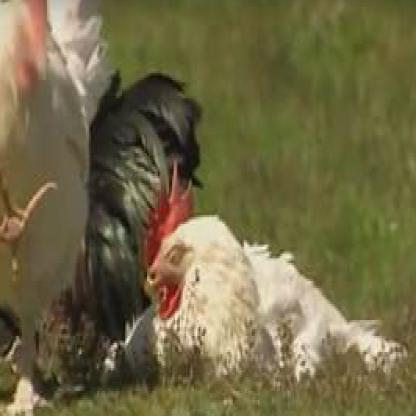chicken: (142, 160, 408, 373)
